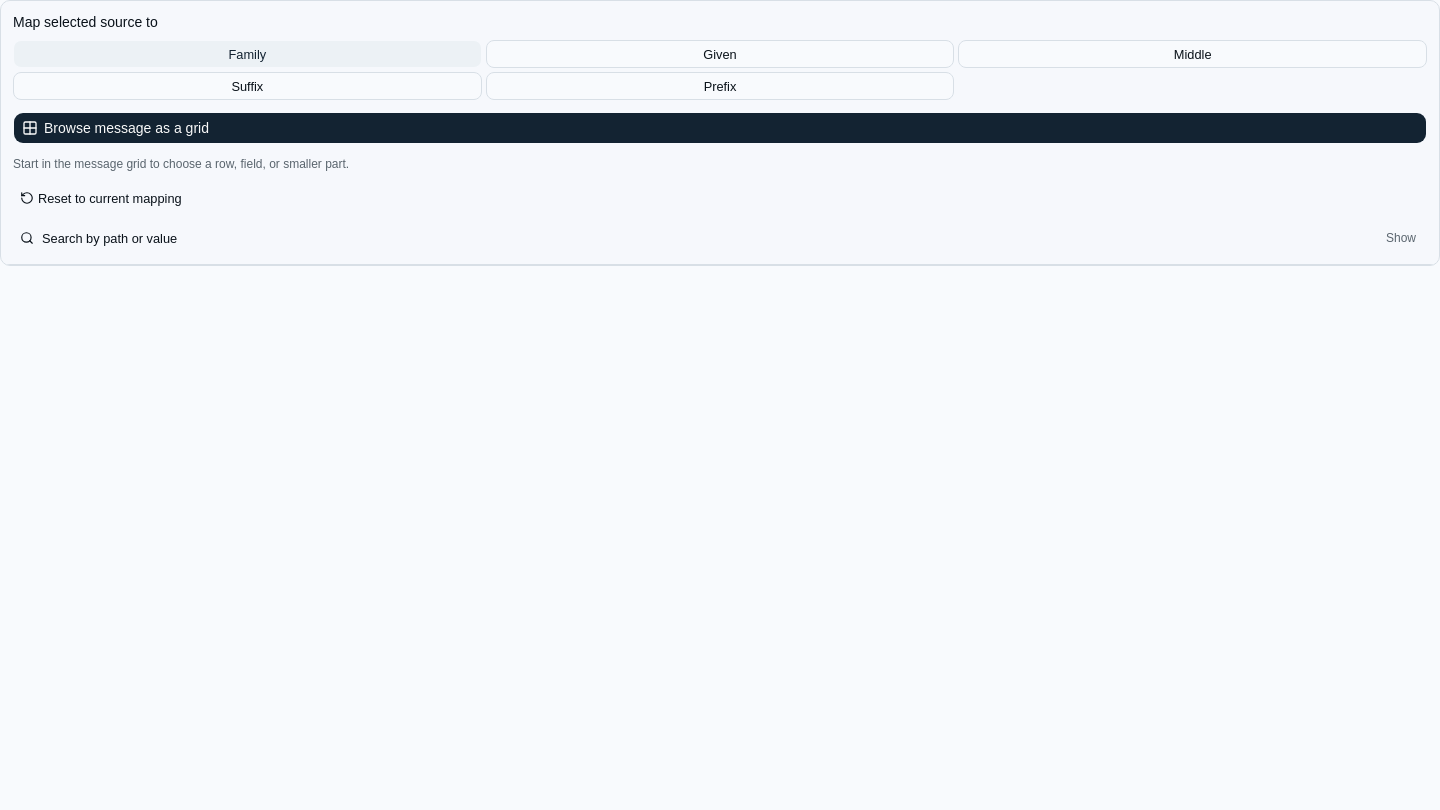
Test: HL7 source browser › explains the first-repetition behavior for a repeated grid field
This screenshot has width=1440, height=810.
Click the button "Browse message as a grid": [126, 128] box left=13, top=112, right=1427, bottom=144
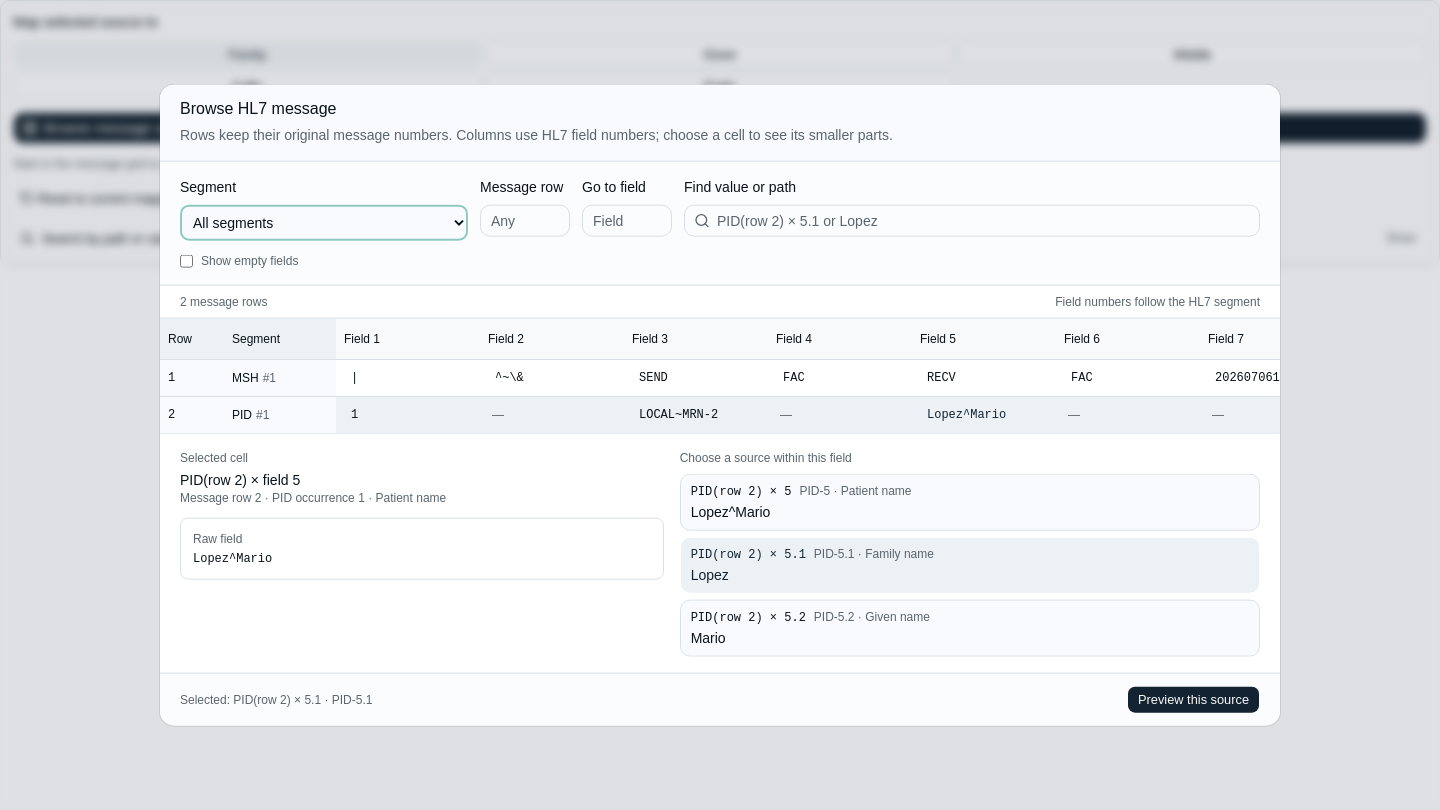
Click the button with aria-label "PID message row 2, field 3: LOCAL~MRN-2": [696, 414] box left=628, top=400, right=764, bottom=428
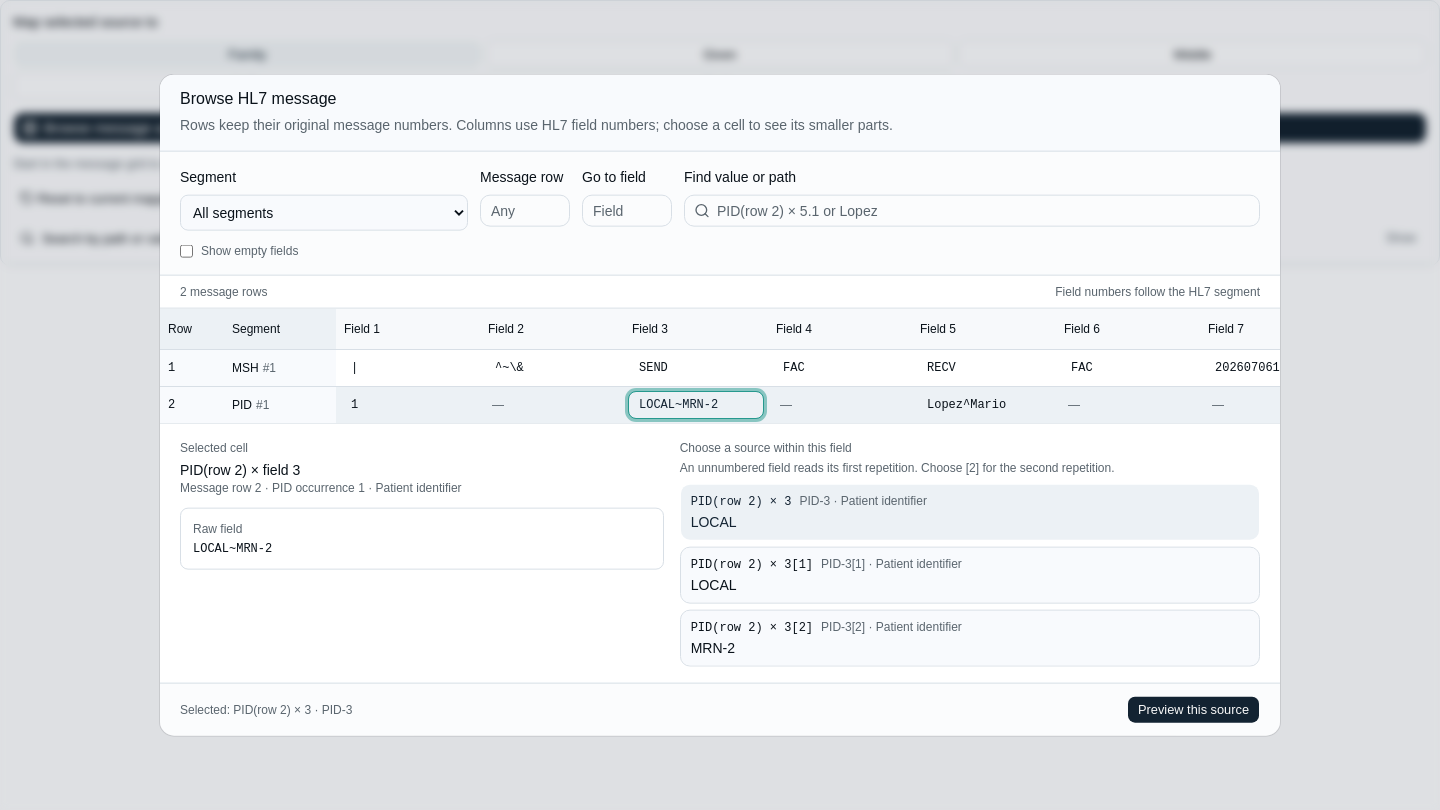
Check: the text "An unnumbered field reads its first repetition" is shown, box left=680, top=460, right=1114, bottom=474
